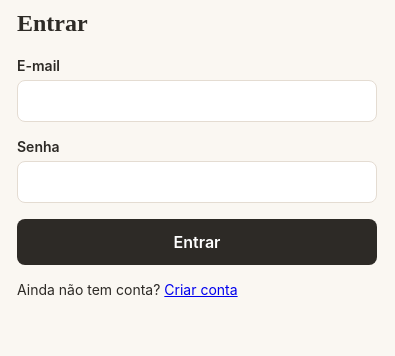
LoginPage › mostra erros de validação quando os campos estão vazios
Click the button "Entrar". click: (197, 242)
box: [17,219,377,265]
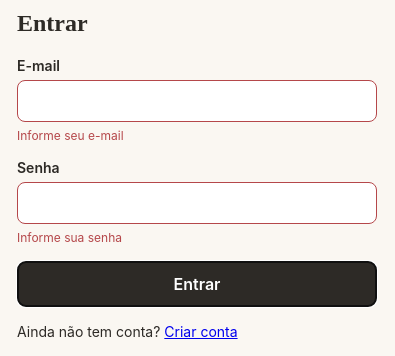
Expected: the text "Informe seu e-mail" is shown, [17,128,124,143]
Expected: the text "Informe sua senha" is shown, [17,230,122,245]
